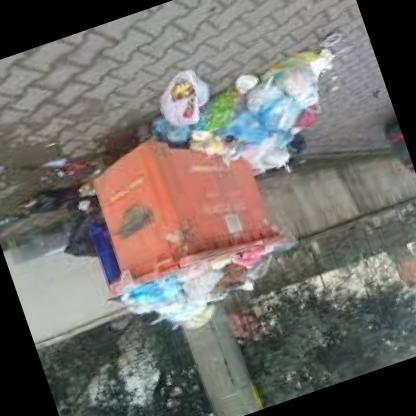Garbage: (182, 20, 360, 190), (120, 244, 278, 352), (268, 31, 331, 106), (146, 66, 220, 121), (222, 56, 278, 122), (244, 119, 302, 179), (158, 282, 212, 325), (36, 142, 85, 188), (268, 100, 324, 137), (126, 274, 174, 316), (206, 264, 256, 300)
